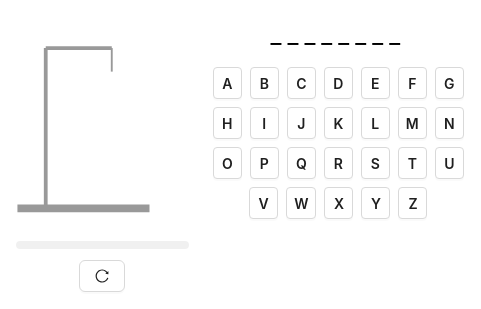
<HangmanGameScreen /> › disables letter after guessing
Click the button "A".
click(227, 83)  # box [213,67,242,99]
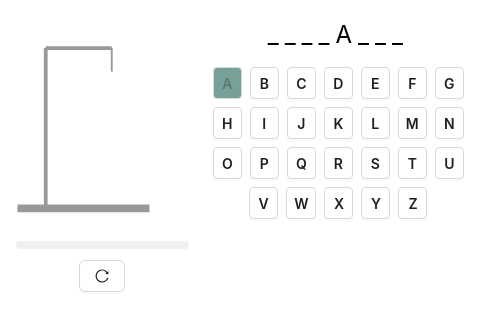
Expected: the button "A" is disabled, [213,67,242,99]
